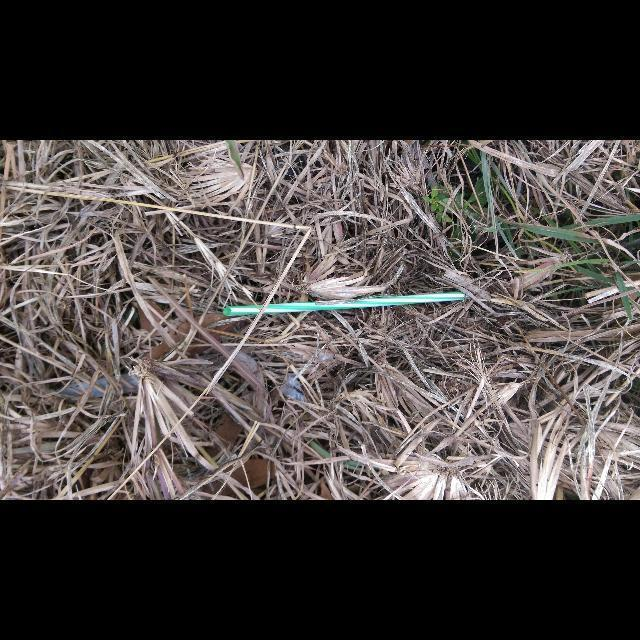Plastic: (223, 292, 469, 316)
